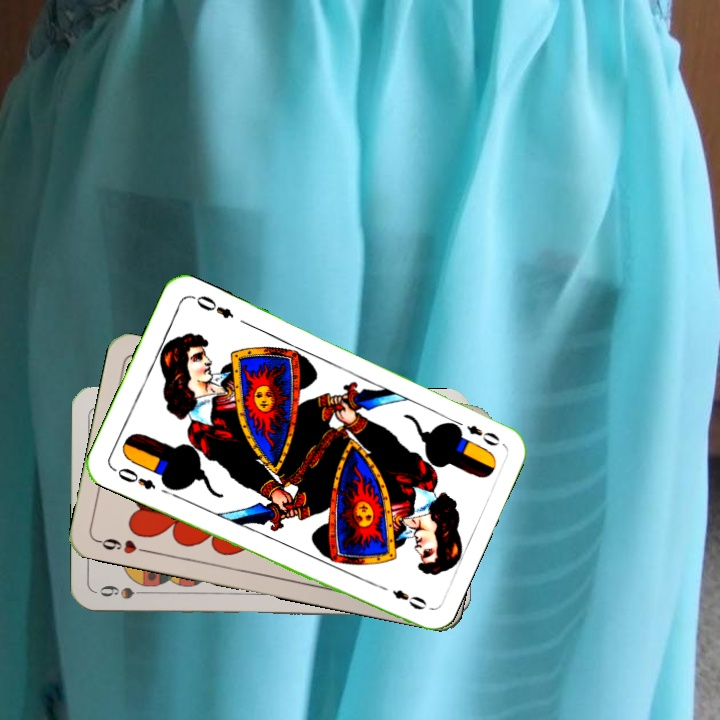EO: (448, 415, 503, 449), (108, 464, 158, 493)
H9: (93, 534, 152, 557)
S9: (95, 582, 154, 602)
